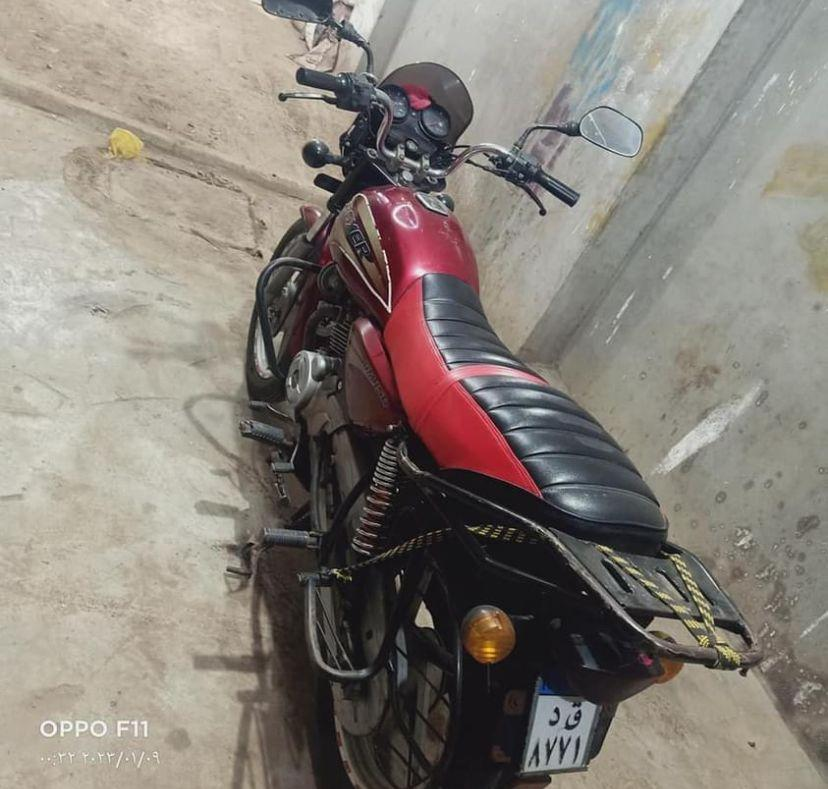License Plate: (529, 677, 601, 778)
